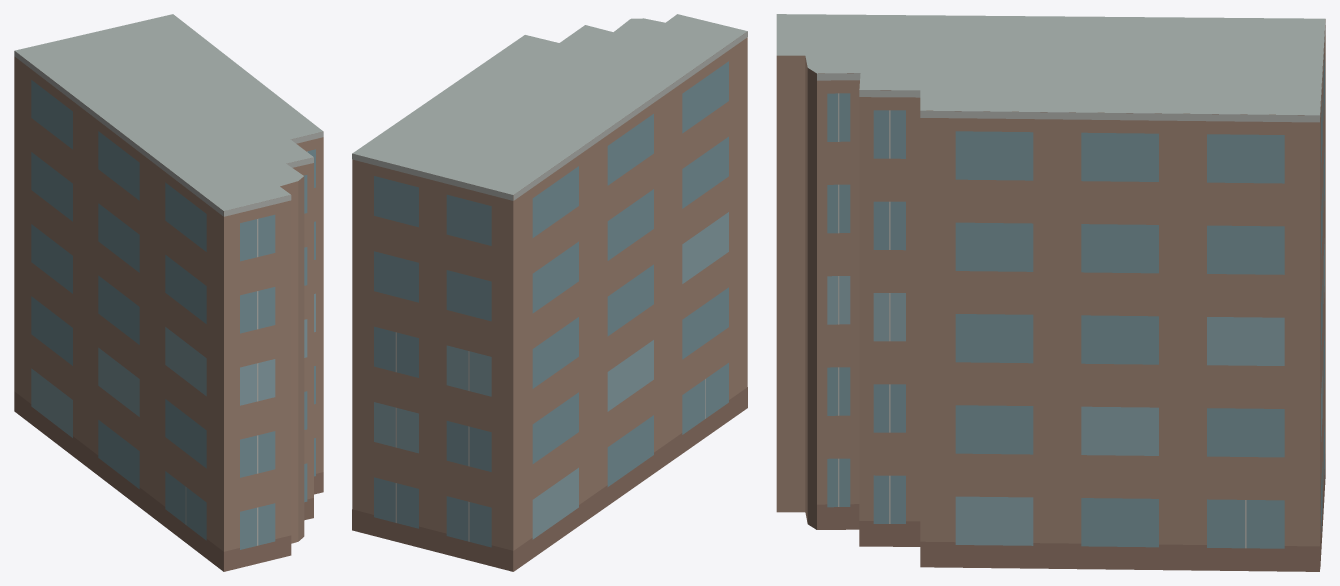
The model's file is survey-upis-32711659.glb.
The picture shows the model from 3 angles, left to right: view 1: azimuth 30°, elevation 25°; view 2: azimuth 150°, elevation 25°; view 3: azimuth 270°, elevation 25°; orthographic projection. The views are drawn at different scales.
Visible parts, largest first — view 1: survey-upis-32711659.tmp; view 2: survey-upis-32711659.tmp; view 3: survey-upis-32711659.tmp.
Part boxes in pixels (left/top/right/bottom): survey-upis-32711659.tmp: left=14, top=14, right=323, bottom=571; survey-upis-32711659.tmp: left=352, top=14, right=747, bottom=571; survey-upis-32711659.tmp: left=776, top=14, right=1325, bottom=571.
Size of the model in its own units: 7.38 by 15.5 by 16.91.
